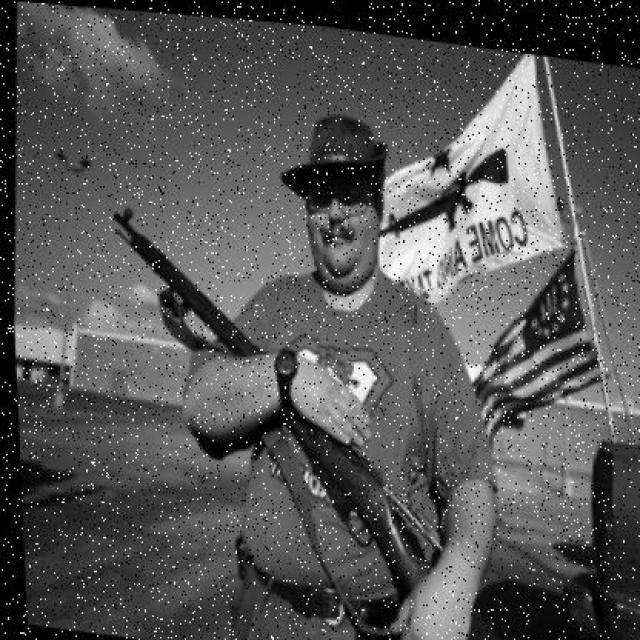weapon: (109, 210, 448, 602)
